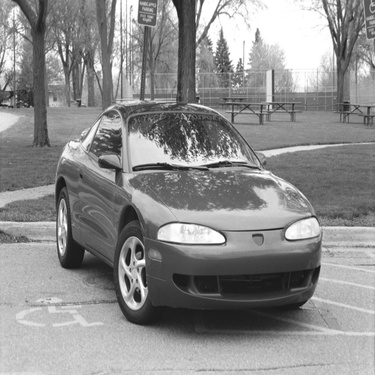car: (49, 89, 327, 328), (1, 81, 22, 112)
